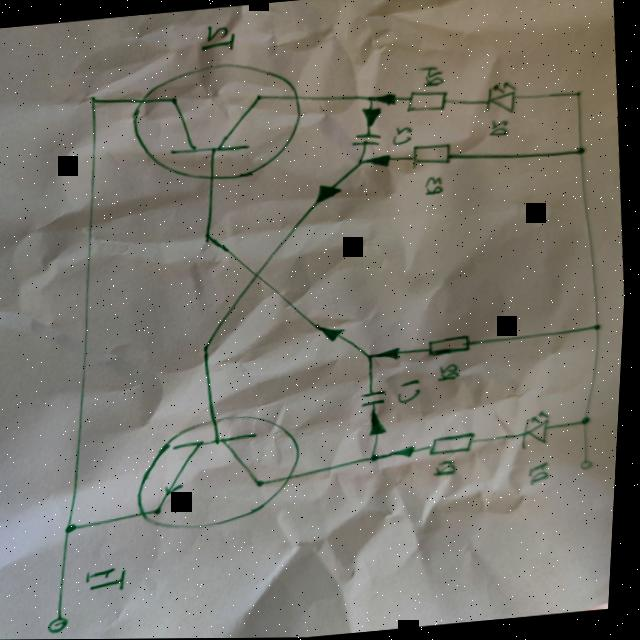capacitor: (363, 388, 395, 409), (351, 130, 385, 149)
crossover: (243, 264, 275, 287)
diode: (522, 409, 560, 452), (483, 79, 521, 117)
junction: (201, 229, 223, 248), (67, 519, 89, 537), (86, 93, 105, 109), (583, 415, 599, 427), (593, 322, 609, 333), (367, 350, 383, 361), (355, 156, 371, 167), (575, 146, 591, 157), (373, 452, 388, 463), (573, 88, 586, 99), (204, 342, 217, 353), (366, 94, 378, 103)
resistor: (428, 431, 483, 457), (403, 86, 452, 114), (412, 142, 457, 169), (429, 333, 478, 357)
terminal: (50, 610, 82, 636), (583, 457, 602, 472)
text: (197, 21, 242, 56), (89, 564, 138, 595), (399, 377, 429, 405), (419, 64, 448, 89), (532, 461, 559, 486), (391, 124, 418, 147), (424, 174, 449, 196), (438, 459, 464, 479), (441, 362, 467, 382), (489, 118, 513, 138)
transistor: (130, 53, 315, 192), (126, 412, 313, 535)
